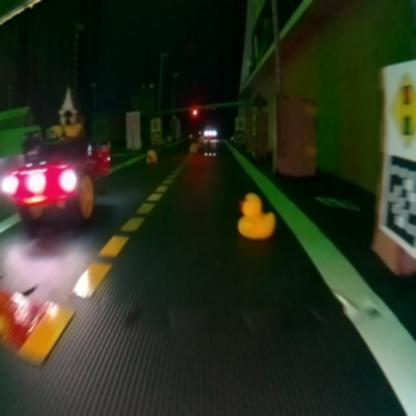duckie: (235, 185, 282, 243)
duckiebot: (0, 132, 124, 235)
